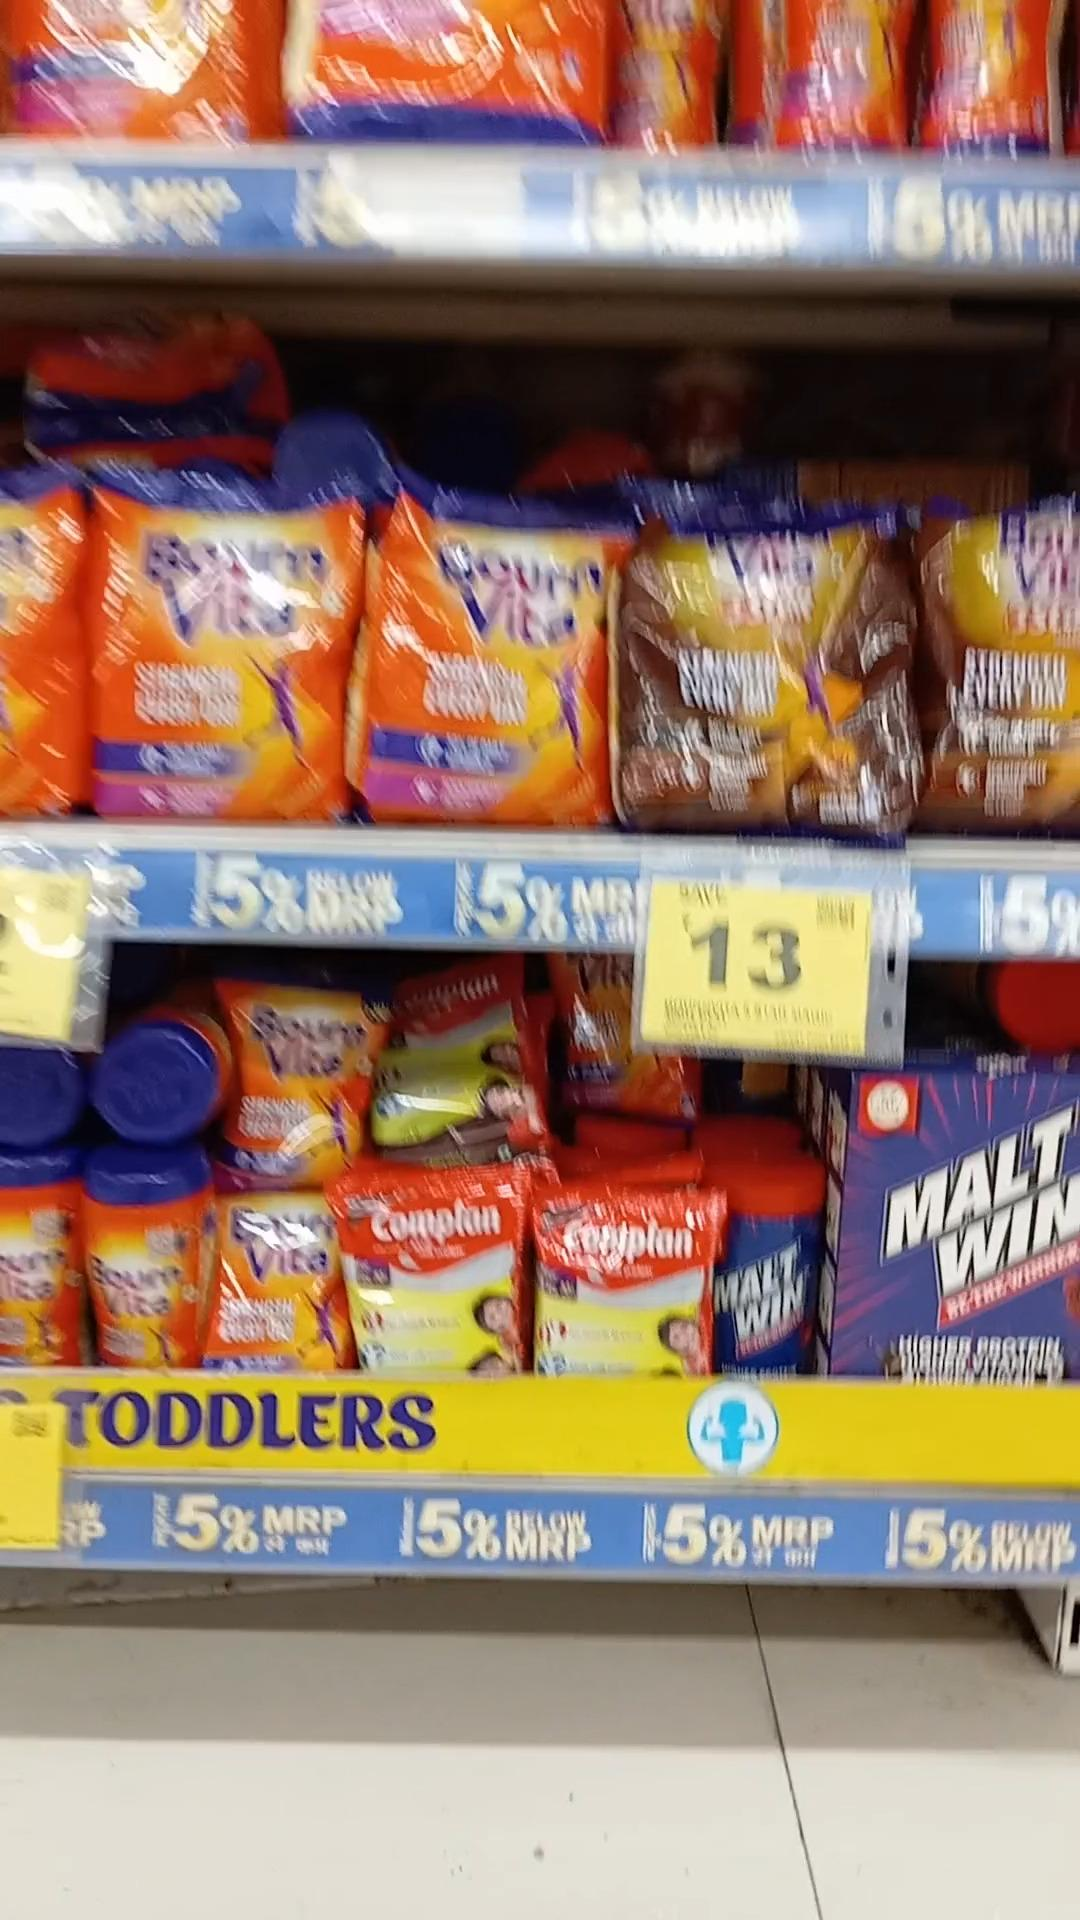BOURN_VITA_200_G_JAR: (86, 1153, 196, 1366)
BOURN_VITA_500_G_POUCH: (83, 479, 352, 814), (361, 487, 603, 825)
BOURN_VITA_75_G_POUCH: (228, 982, 376, 1163), (202, 1179, 332, 1369)
BOURN_VITA_FIVE_STAR_MAGIC_500_G_POUCH: (624, 524, 916, 843)
